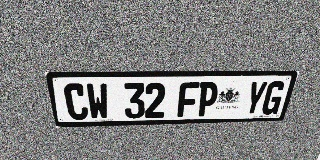2: (145, 82, 166, 118)
3: (124, 83, 145, 119)
C: (63, 83, 89, 120)
F: (177, 82, 200, 117)
G: (260, 81, 287, 115)
P: (196, 82, 220, 117)
W: (85, 83, 110, 120)
Y: (242, 81, 269, 115)
